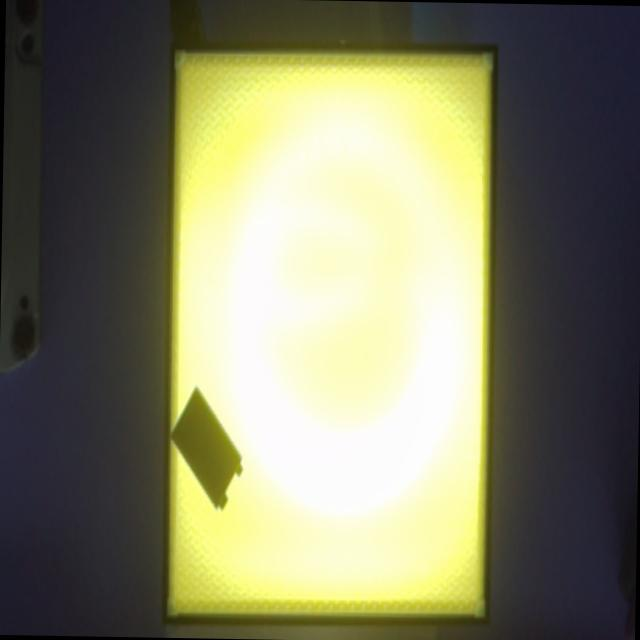bateria: (169, 385, 243, 510)
mesa: (161, 40, 497, 625)
